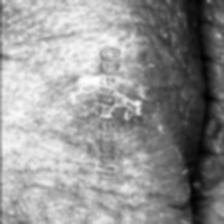Potentially Malignant Skin Tumors: (64, 86, 142, 125)
